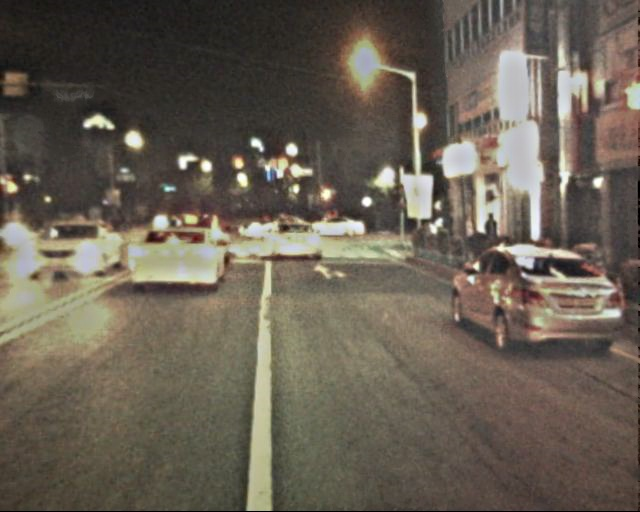person: (483, 212, 504, 263), (101, 206, 133, 233), (462, 215, 478, 254)
